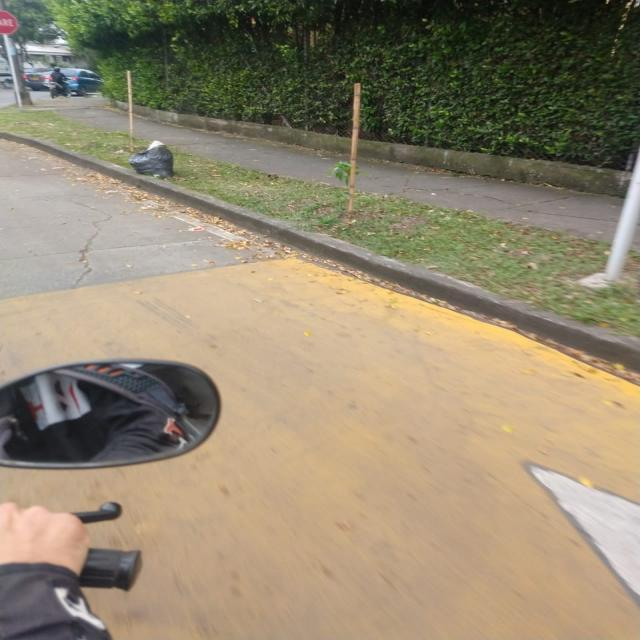Trashbag: (125, 140, 177, 183)
